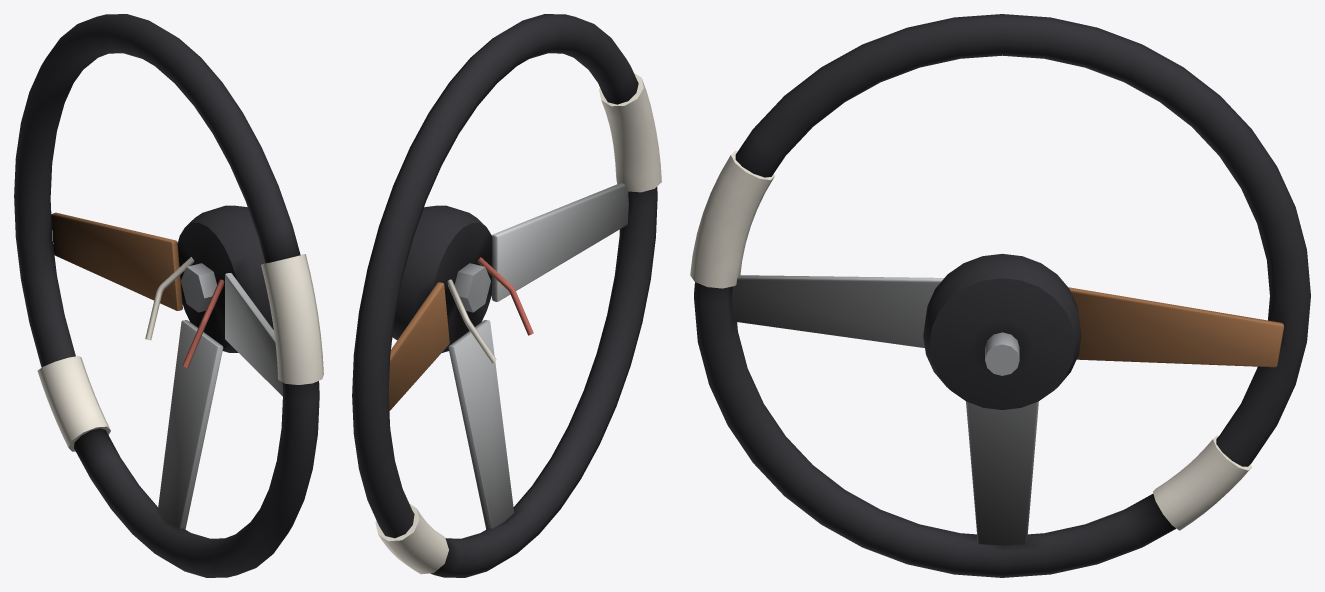
File: steer_bad.glb
The picture shows the model from 3 angles, left to right: view 1: azimuth 30°, elevation 25°; view 2: azimuth 150°, elevation 25°; view 3: azimuth 270°, elevation 25°; orthographic projection. The views are drawn at different scales.
Visible parts, largest first — view 1: PART; view 2: PART; view 3: PART.
Boxes of the visible parts, <box> form: PART: <box>14,14,323,577</box>; PART: <box>352,14,661,577</box>; PART: <box>690,14,1310,577</box>.
Size of the model in its own units: 0.111 by 0.3897 by 0.3921.
